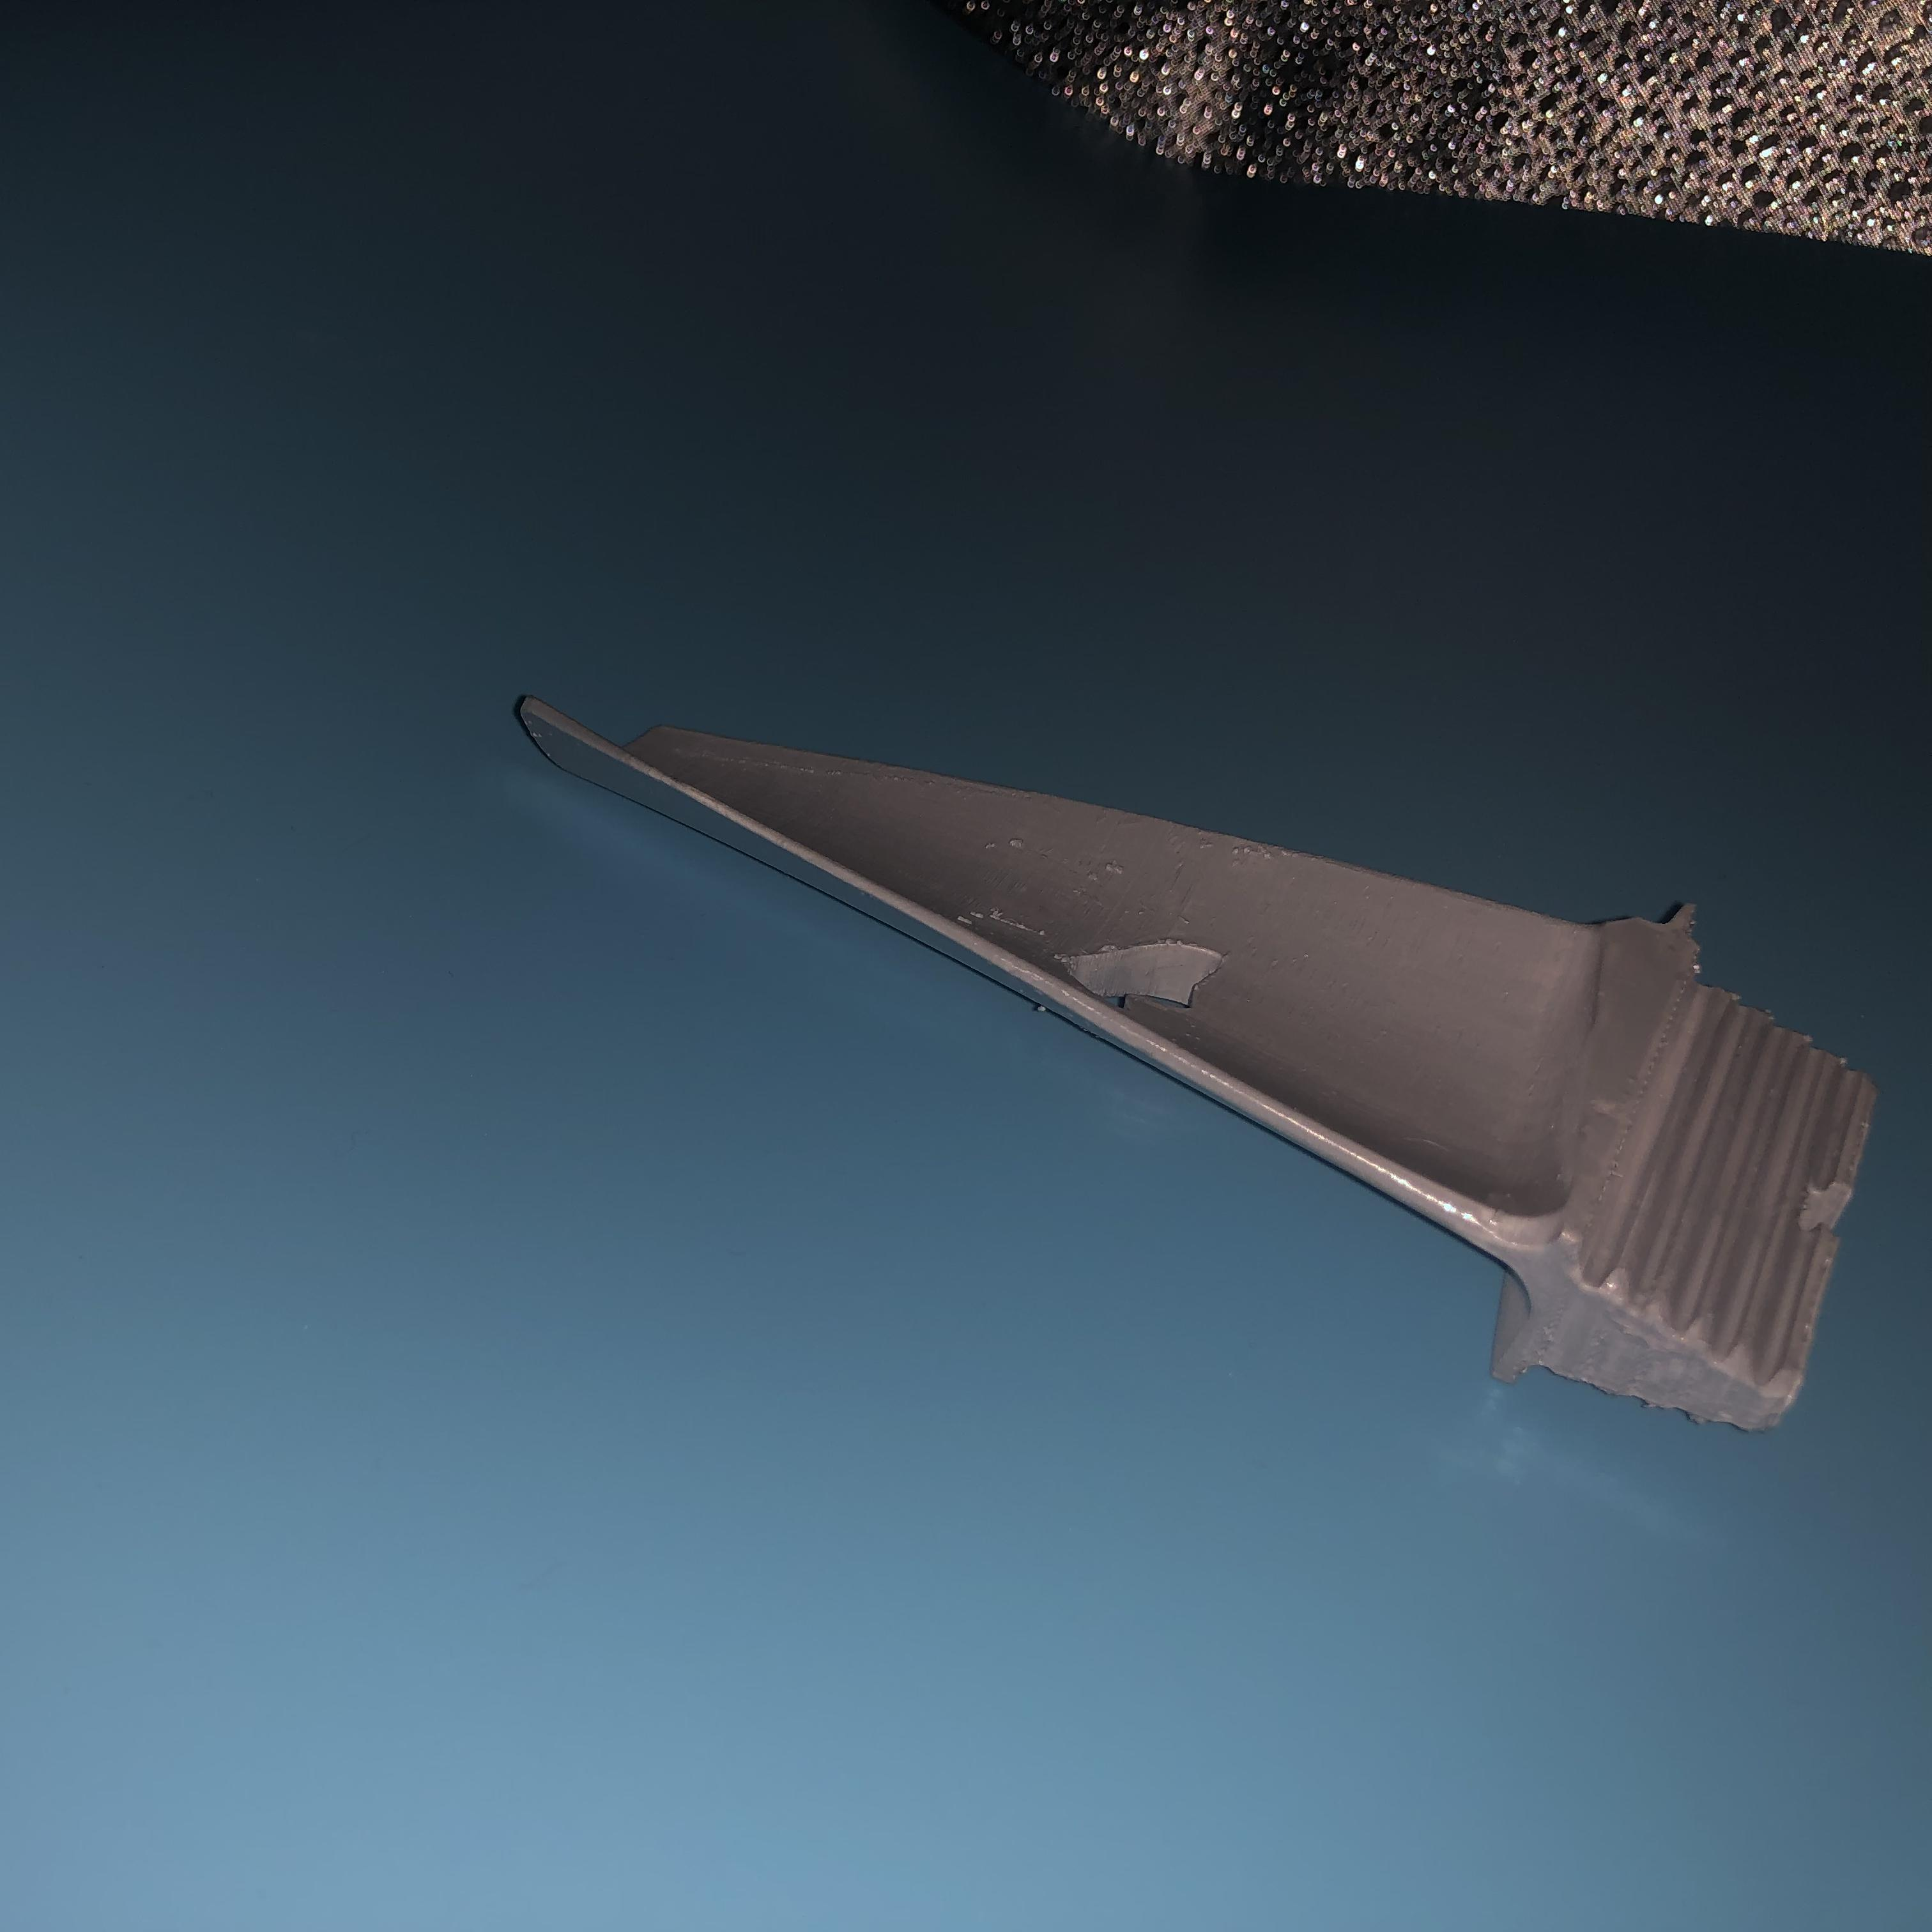breakdown: (1060, 922, 1231, 1016)
